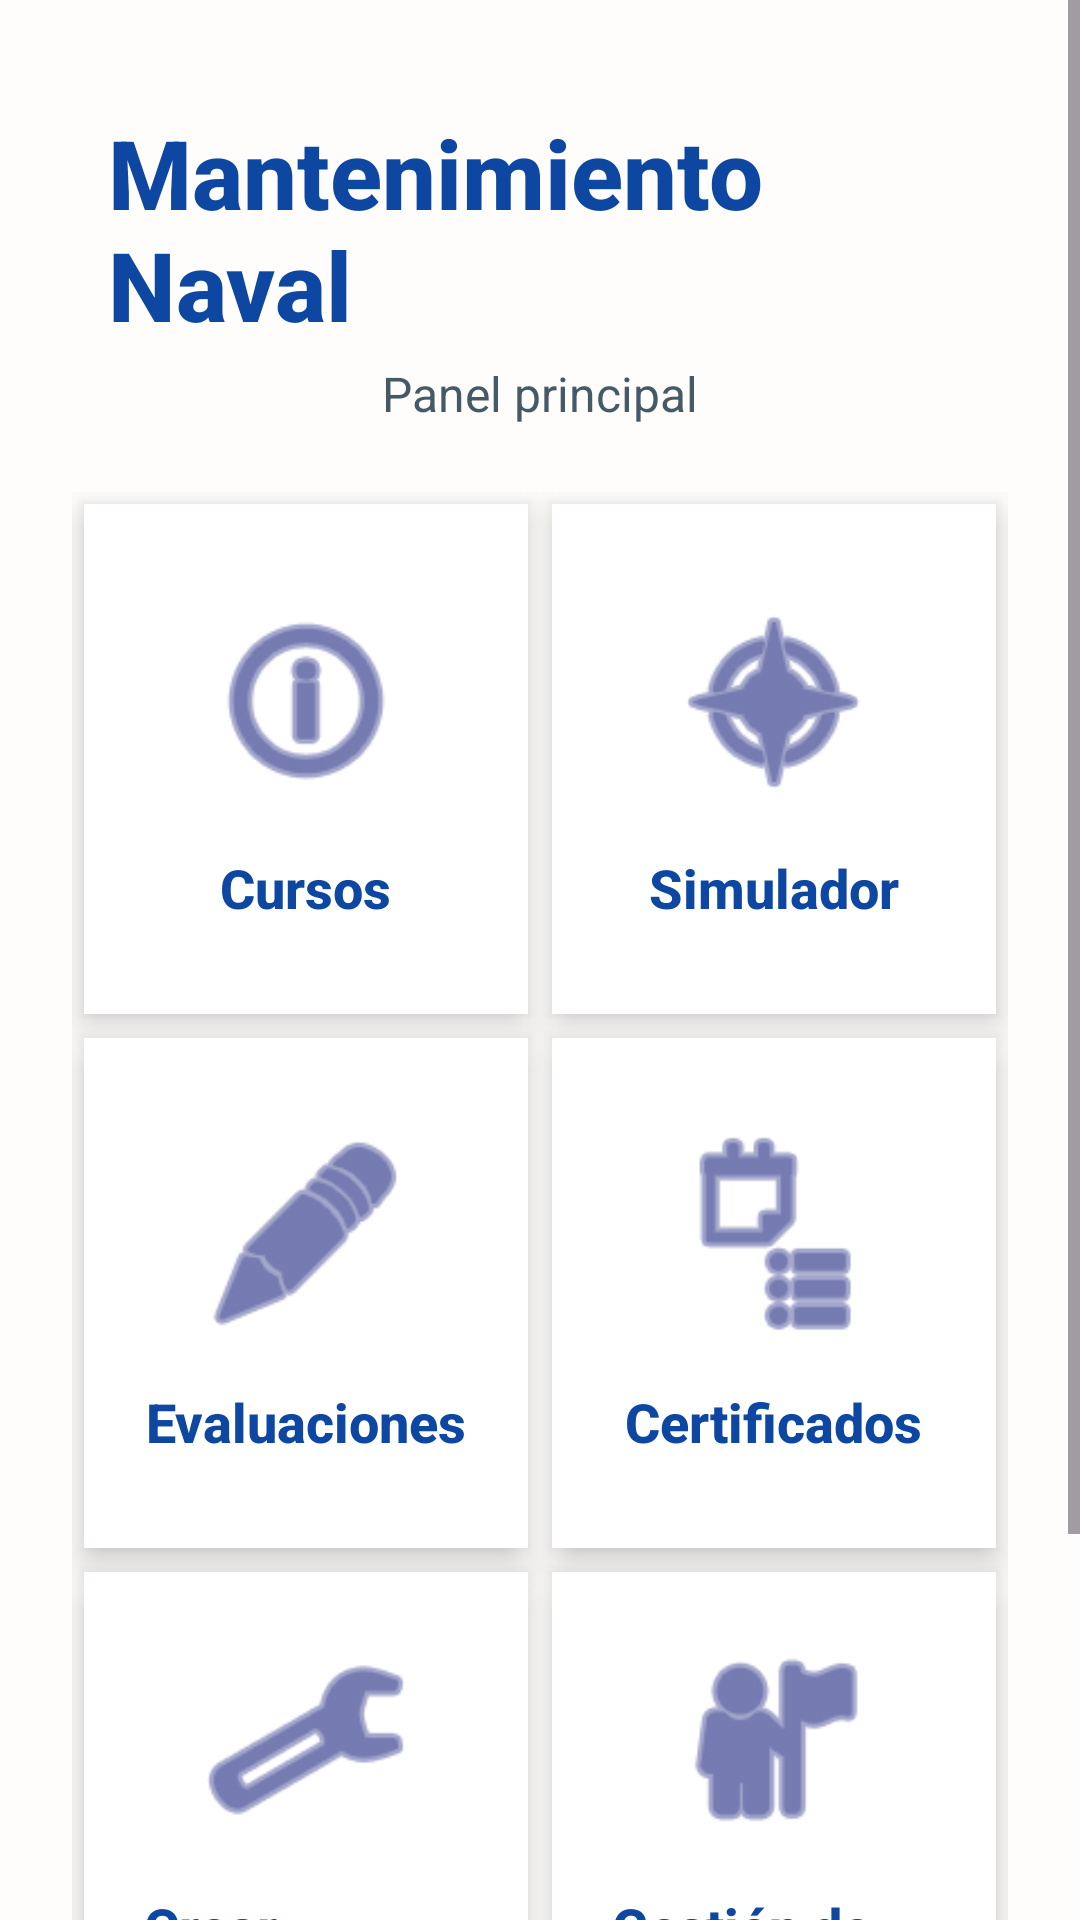

Icon bounding boxes for this 1080px×1920px phone screenshot, format (x1, y1, x2, y2):
agenda: (699, 1138, 851, 1330)
compass: (688, 617, 859, 787)
edit: (214, 1142, 397, 1325)
info details: (228, 623, 384, 779)
manage: (208, 1666, 403, 1814)
